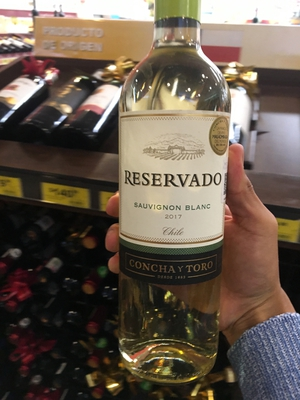reservado sauvignon blanc: (114, 4, 230, 371)
